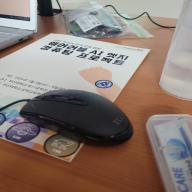mouse: (20, 88, 135, 148)
